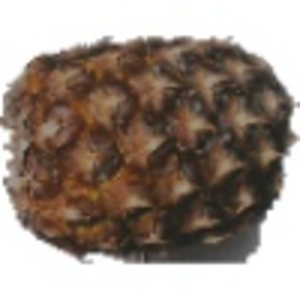abacaxi: (3, 32, 294, 252)
